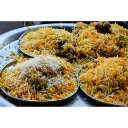briyani: (12, 60, 71, 97), (86, 57, 128, 107), (74, 21, 128, 56), (22, 27, 72, 57)
